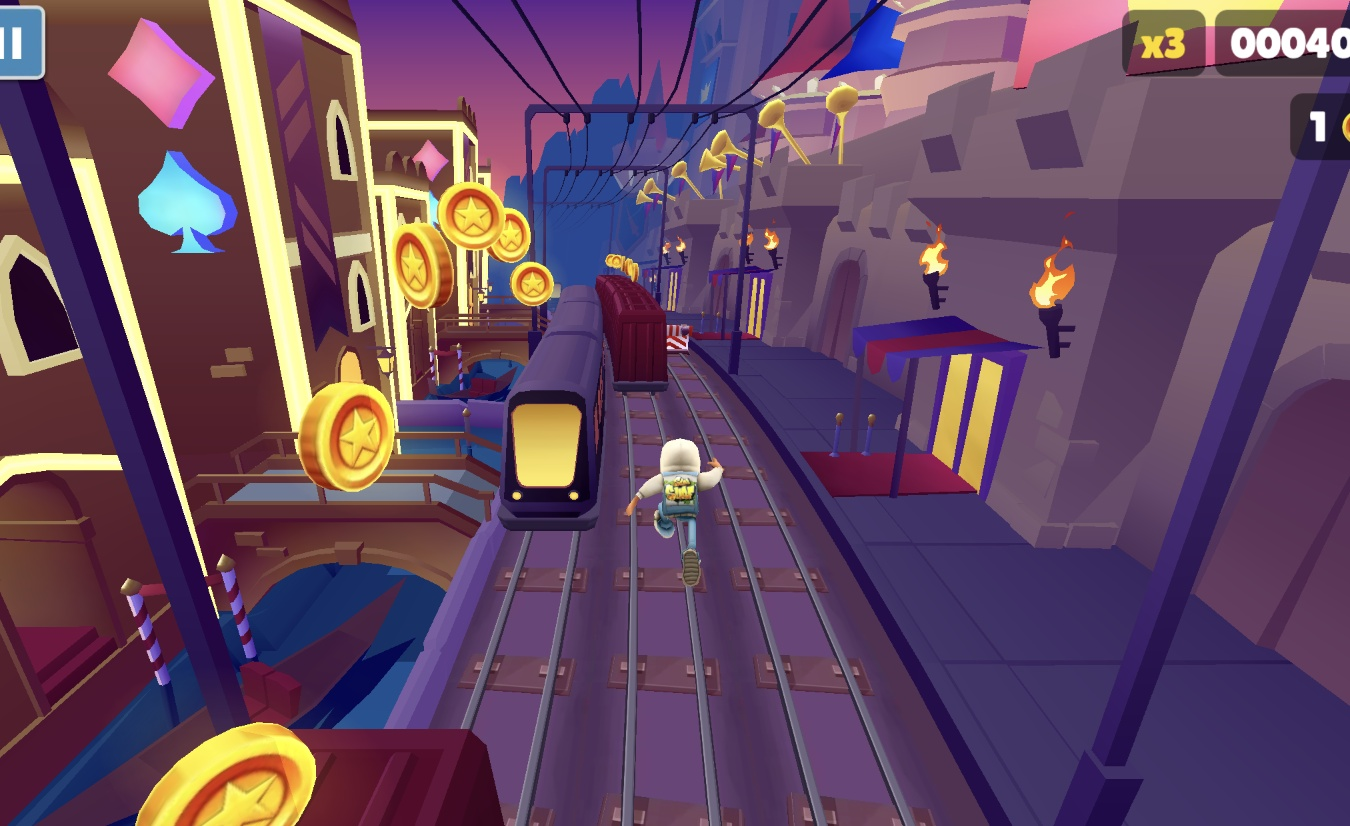ground_barrier: (666, 326, 698, 355)
train: (477, 277, 612, 532), (595, 273, 673, 394)
